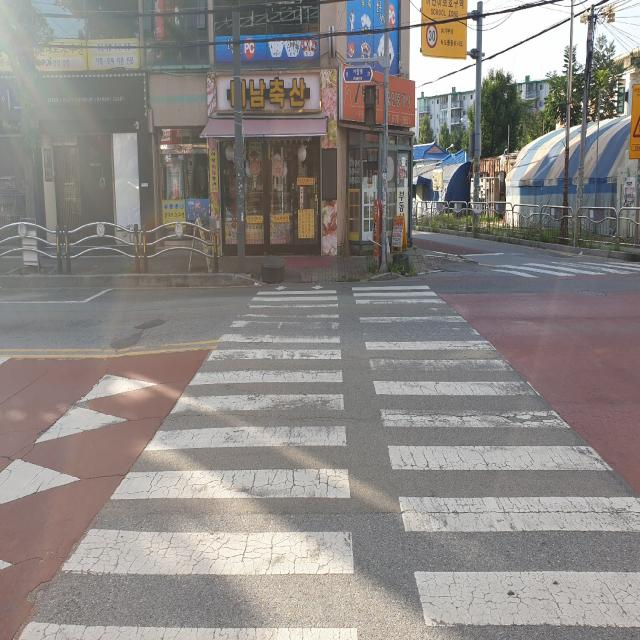횡단보도: (15, 282, 640, 639)
